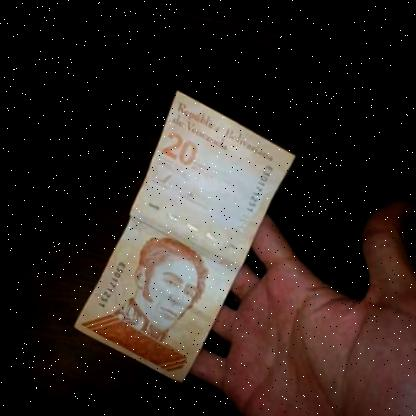vef_front: (52, 72, 310, 398)
